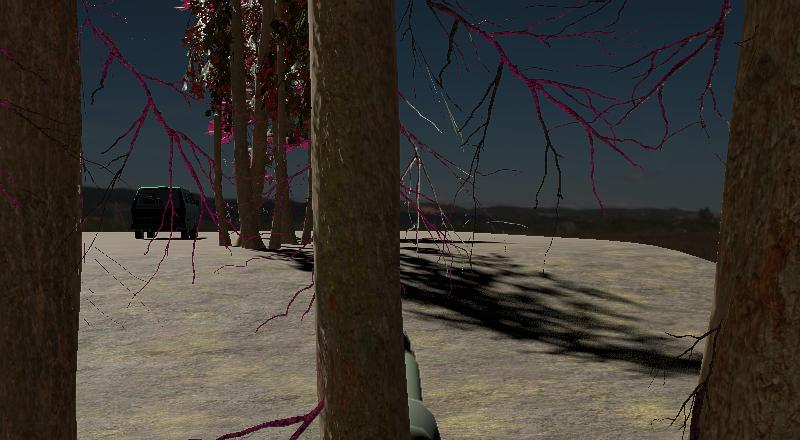car: (130, 184, 202, 239)
